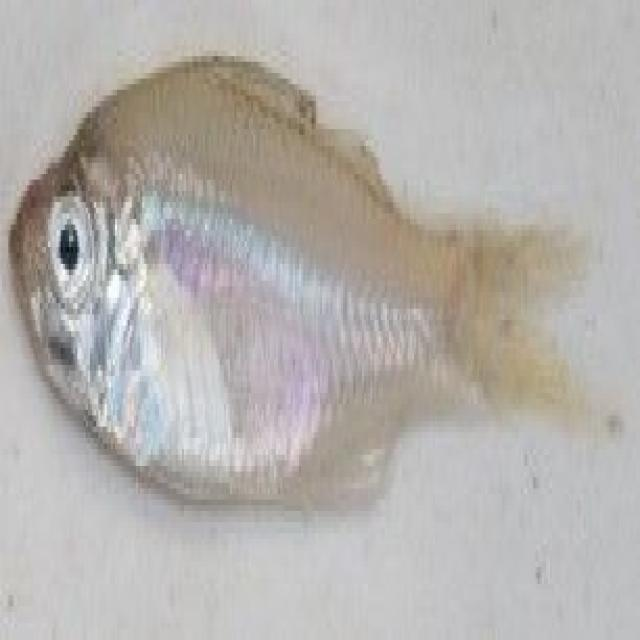Glass-Perchlet: (11, 31, 610, 562)
